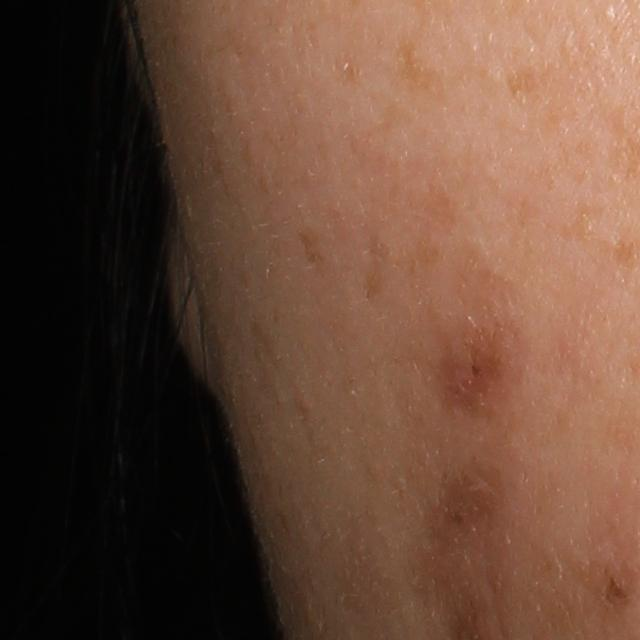melasma: (493, 58, 555, 108), (390, 36, 443, 94), (363, 238, 396, 299), (293, 230, 321, 274)
